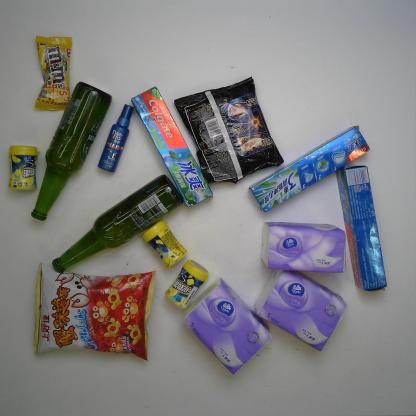Alcohol: (51, 174, 185, 274), (30, 80, 112, 222)
Chocolate: (34, 35, 74, 111)
Gum: (141, 219, 188, 269), (164, 259, 209, 310), (8, 145, 40, 190)
Instant Noodles: (174, 76, 284, 185)
Personal Hygiene: (249, 125, 372, 212), (130, 86, 213, 208), (334, 165, 387, 293), (98, 104, 133, 172)
Puffed Food: (34, 261, 158, 363)
Tissue: (181, 277, 272, 376), (254, 268, 349, 352), (260, 221, 346, 274)
